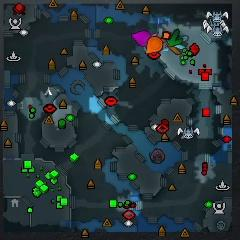p3: (131, 30, 152, 46)
p5: (146, 36, 162, 54)
x3: (176, 35, 188, 50)
x4: (166, 28, 183, 47)
x5: (168, 45, 180, 55)
